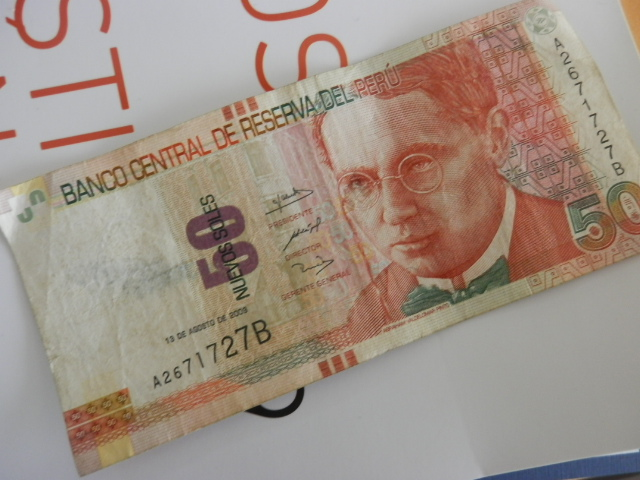B50: (1, 5, 640, 464)
